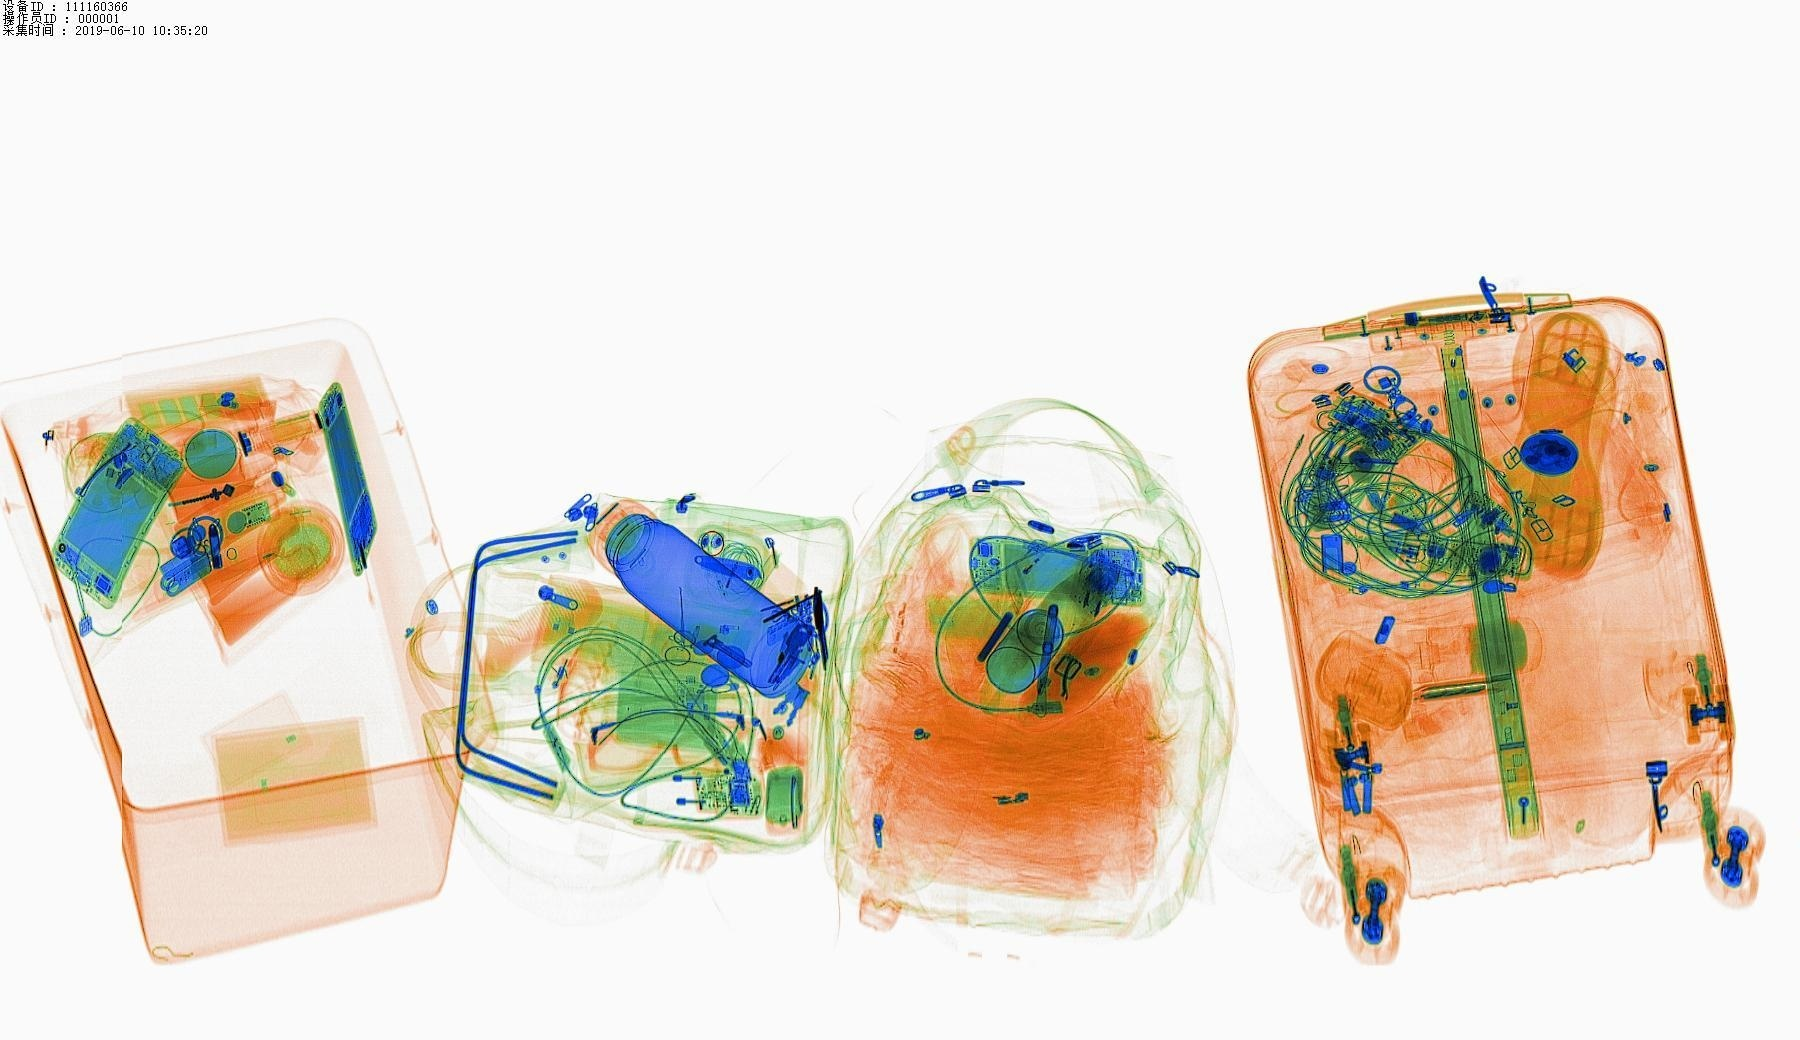NonmetallicFire: (989, 527, 1056, 596)
